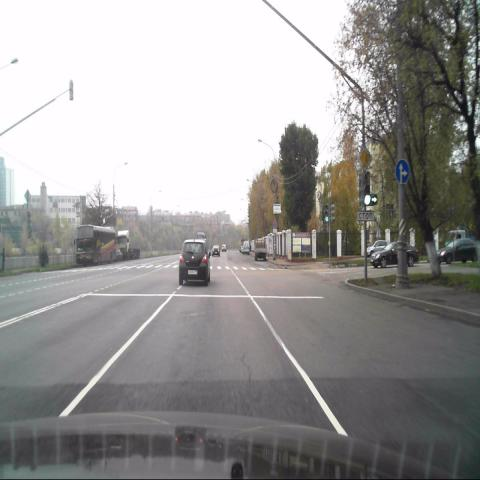2_1: (358, 144, 372, 171)
